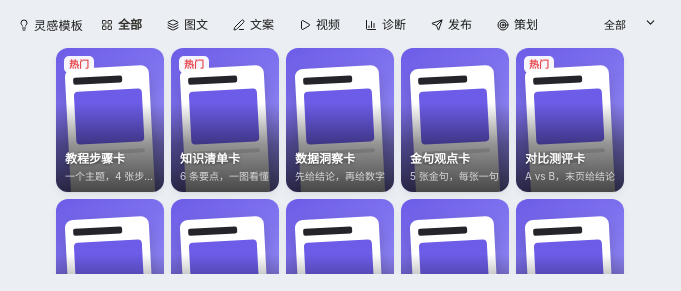
Test: InspirationRail › 点「全部」按钮进入分组视图，分类标题齐全
Step 1. Click the button with class "ir-act" showing "全部" → (615, 25), box [594,12,636,38]
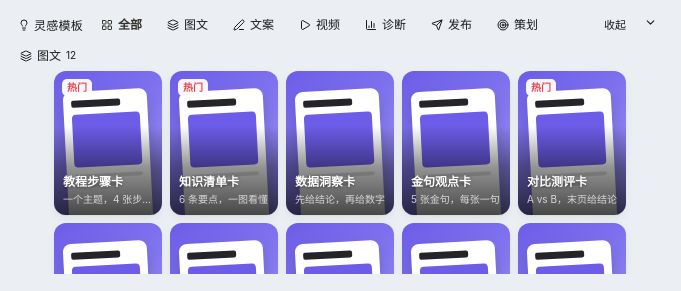
Now the element with class "ir-groups" is shown
